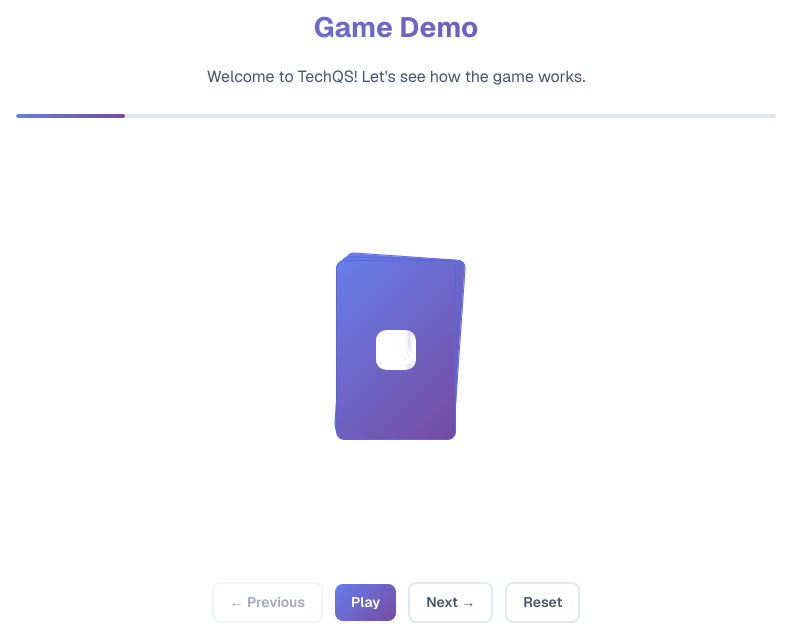
it: GameDemo › starts demo when play button is clicked
Click the button "Play" at [366, 602], box left=335, top=584, right=396, bottom=621
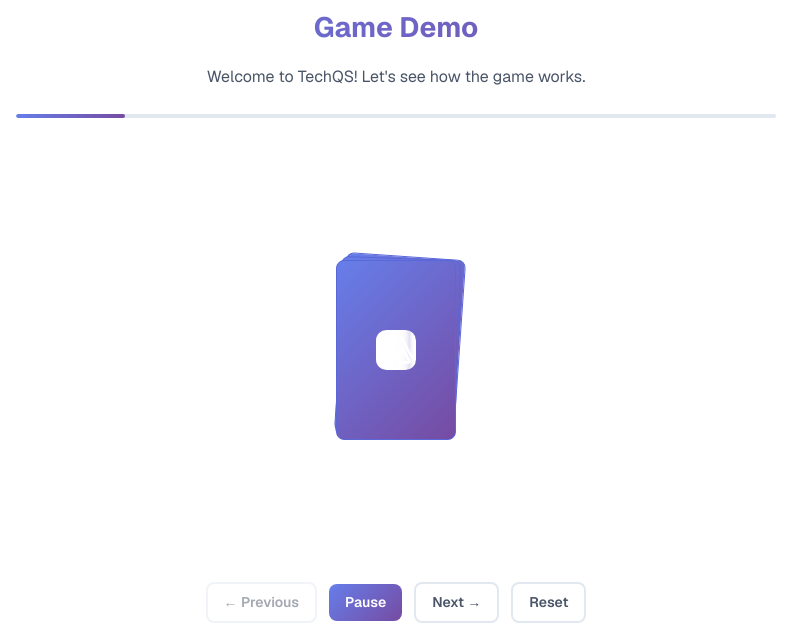
Expected: the button "Pause" is shown, left=329, top=584, right=402, bottom=621
